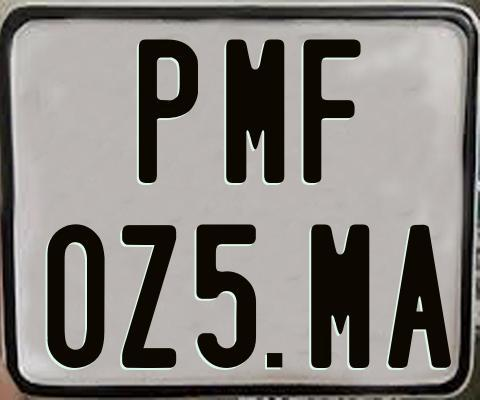0: (44, 223, 106, 367)
5: (194, 223, 256, 370)
A: (388, 222, 451, 367)
F: (300, 39, 361, 189)
M: (226, 39, 287, 185), (309, 223, 368, 373)
P: (137, 36, 201, 185)
Z: (119, 224, 174, 370)
